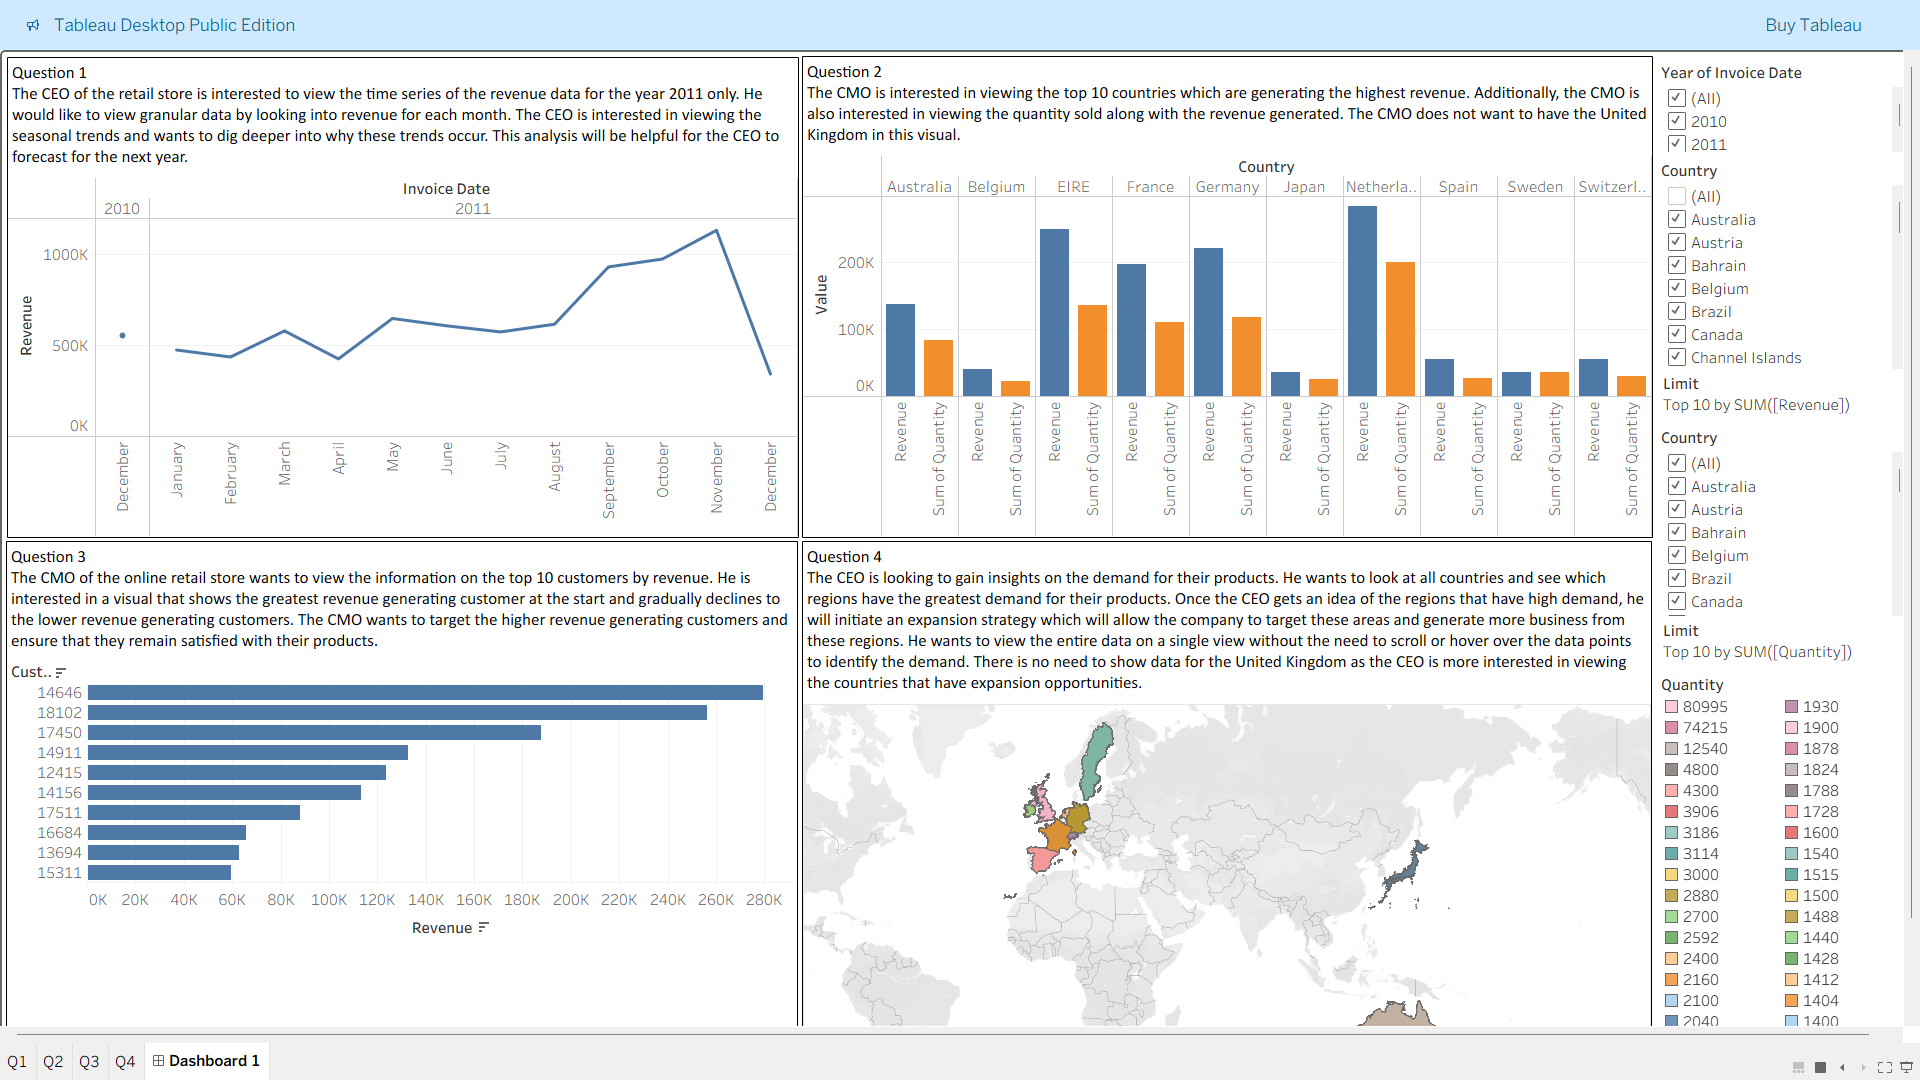

This screenshot's page, from the dashboard's own definition file:
{"tool":"tableau","page":{"name":"Dashboard 1","canvas":[1000,1000],"units":"permille","ordinal":0},"visuals":[{"type":"worksheet","title":"Q2","mark":"Automatic","cols":["Country"],"box":[417.7,5.6,443.2,446.3]},{"type":"worksheet","title":"Q1","mark":"Line","rows":["Revenue"],"cols":["InvoiceDate","InvoiceDate"],"box":[3.6,6.5,412.5,445.4]},{"type":"filter","title":"Q1","param":"[federated.1u6pub60ke9d5r17nuxdj0z3jhci].[yr:InvoiceDate:ok]","box":[863,7.4,132.8,90.7]},{"type":"filter","title":"Q2","param":"[federated.1u6pub60ke9d5r17nuxdj0z3jhci].[none:Country:nk]","box":[863,98.2,132.8,247.2]},{"type":"filter","title":"Q4","param":"[federated.1u6pub60ke9d5r17nuxdj0z3jhci].[none:Country:nk]","box":[863,345.4,132.8,228.7]},{"type":"worksheet","title":"Q3","mark":"Automatic","rows":["CustomerID"],"cols":["Revenue"],"box":[3.1,454.6,412.5,537]},{"type":"worksheet","title":"Q4","mark":"Multipolygon","box":[417.7,454.6,442.7,535.2]},{"type":"legend","title":"Q4","param":"[federated.1u6pub60ke9d5r17nuxdj0z3jhci].[none:Quantity:ok]","box":[863,574.1,132.8,418.5]}]}

Visuals, with their boxes on the dashboard's canvas, which has no fixed pixel size, in thousandths of its width and height (x1, y1, x2, y2). These are canvas units, not pixel positions in the 1920x1080 screenshot, which may show the page scaled, cropped or inside an application window:
"Q2" worksheet: box=[418, 6, 861, 452]
"Q1" worksheet (Line marks): box=[4, 6, 416, 452]
"Q1" filter: box=[863, 7, 996, 98]
"Q2" filter: box=[863, 98, 996, 345]
"Q4" filter: box=[863, 345, 996, 574]
"Q3" worksheet: box=[3, 455, 416, 992]
"Q4" worksheet (Multipolygon marks): box=[418, 455, 860, 990]
"Q4" legend: box=[863, 574, 996, 993]
